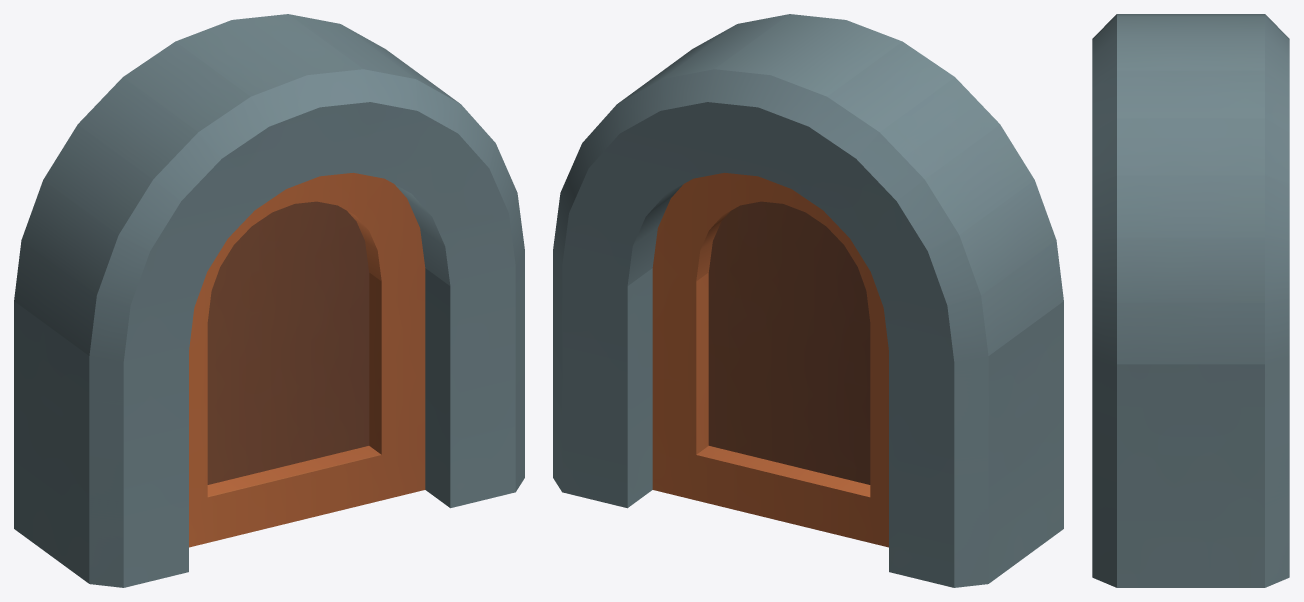
Rendered from doorLarge.glb.
The picture shows the model from 3 angles, left to right: view 1: azimuth 30°, elevation 25°; view 2: azimuth 150°, elevation 25°; view 3: azimuth 270°, elevation 25°; orthographic projection.
Visible parts, largest first — view 1: doorLarge, doorLargeClosed; view 2: doorLarge, doorLargeClosed; view 3: doorLarge.
Part boxes in pixels (<box>): doorLarge: <box>14,14,524,587</box>; doorLargeClosed: <box>189,172,425,547</box>; doorLarge: <box>553,14,1063,587</box>; doorLargeClosed: <box>652,172,888,547</box>; doorLarge: <box>1092,14,1289,587</box>.
Bounding box in the file's own units: 1 × 1 × 0.4.
Materials: 1 (1 with a texture image).
